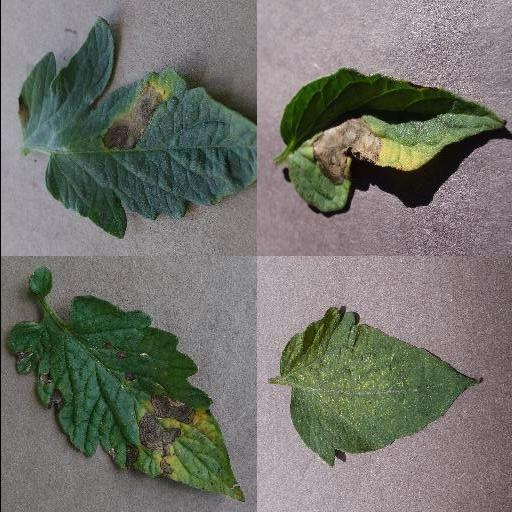Early Blight: (16, 17, 256, 240), (2, 295, 244, 502), (278, 68, 506, 214)
Spider Mites: (279, 307, 481, 465)
